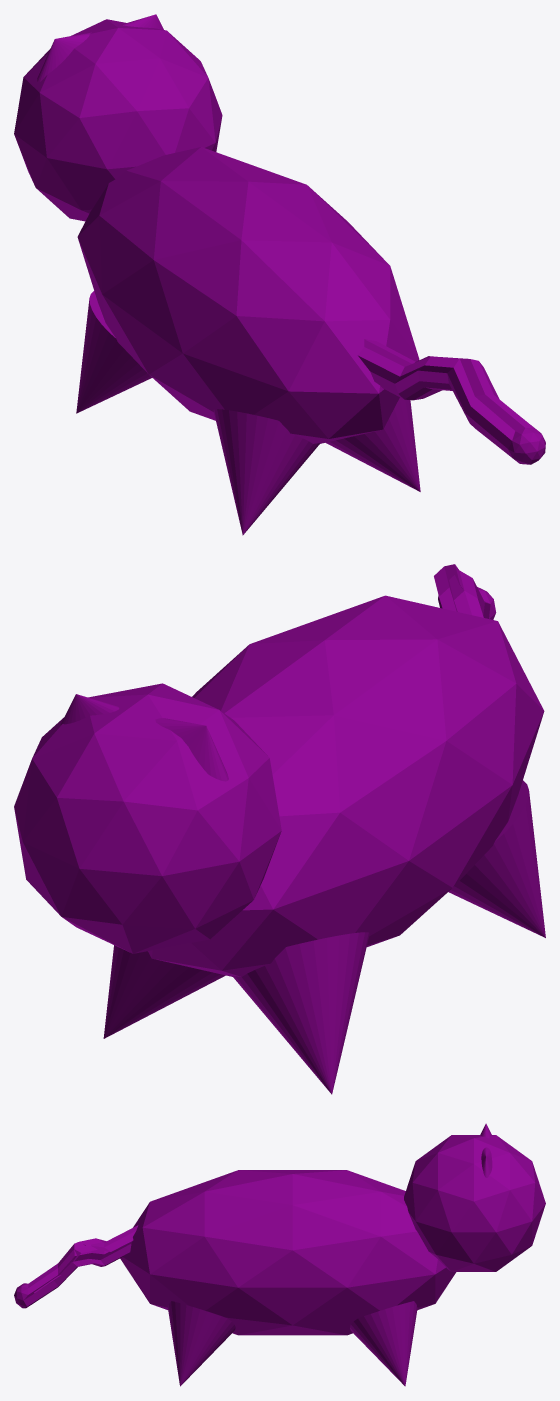
Rendered from Cat.fbx.
The picture shows the model from 3 angles, top to bottom: view 1: azimuth 30°, elevation 25°; view 2: azimuth 150°, elevation 25°; view 3: azimuth 270°, elevation 25°; orthographic projection. The views are drawn at different scales.
Parts seen in each view (by area): view 1: Cat; view 2: Cat; view 3: Cat.
Part boxes in pixels (bbox=[...]): Cat: bbox=[14, 14, 545, 535]; Cat: bbox=[14, 564, 545, 1094]; Cat: bbox=[14, 1123, 545, 1386].
Bounding box in the file's own units: 117 × 172 × 377.
